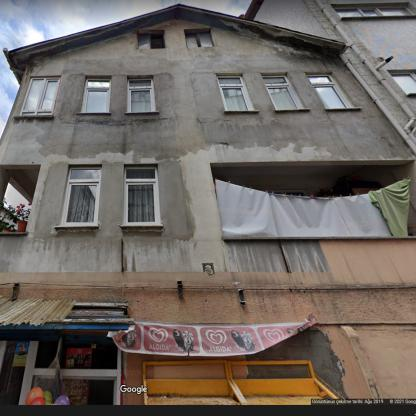window: (60, 164, 100, 226), (123, 164, 158, 226), (19, 77, 60, 116), (308, 73, 352, 108), (263, 75, 304, 109), (216, 74, 254, 110), (334, 6, 415, 19), (81, 78, 110, 112), (128, 78, 154, 112), (185, 30, 214, 50), (390, 73, 416, 94), (137, 30, 167, 48)
